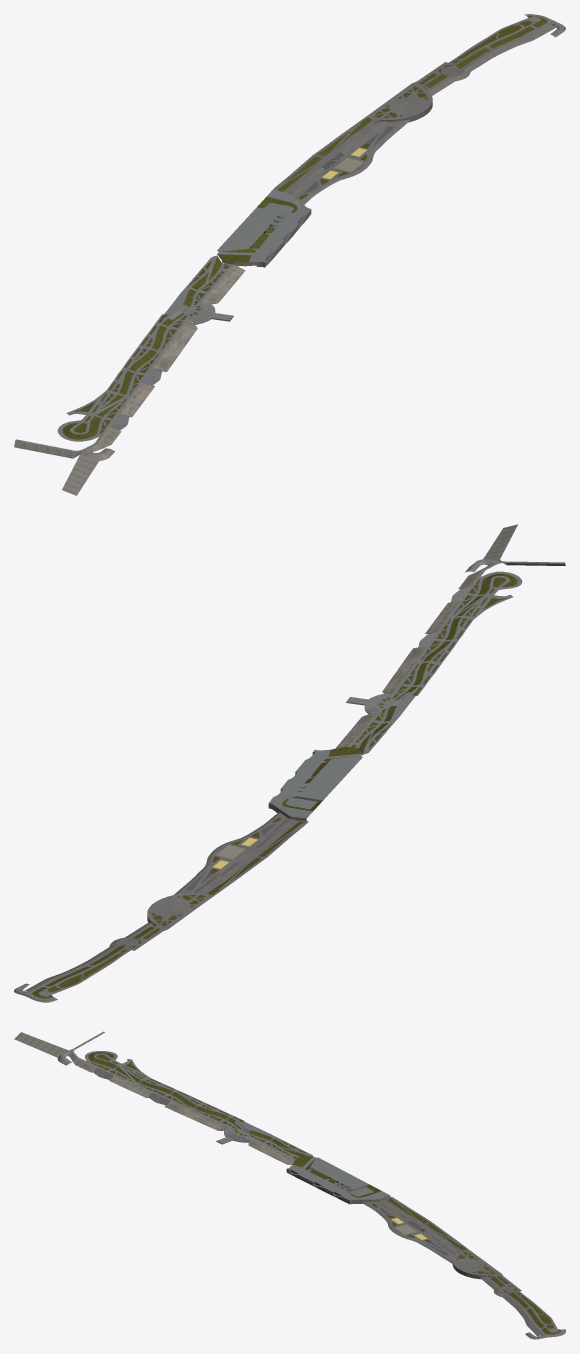
File: Naberejnaya_002.fbx
3 renders of one model, top to bottom at view 1: azimuth 30°, elevation 25°; view 2: azimuth 210°, elevation 25°; view 3: azimuth 270°, elevation 25°, orthographic. The views are drawn at different scales.
Parts seen in each view (by area): view 1: Naberejnaya_A, Naberejnaya_C, Naberejnaya_B; view 2: Naberejnaya_A, Naberejnaya_C, Naberejnaya_B; view 3: Naberejnaya_A, Naberejnaya_C, Naberejnaya_B.
Boxes of the visible parts, x1,y1,x2,y2 form: Naberejnaya_A: (14,255,245,495); Naberejnaya_C: (271,14,565,204); Naberejnaya_B: (217,189,311,267); Naberejnaya_A: (335,524,565,755); Naberejnaya_C: (14,812,308,1002); Naberejnaya_B: (268,746,362,820); Naberejnaya_A: (14,1031,312,1164); Naberejnaya_C: (362,1197,565,1339); Naberejnaya_B: (286,1156,390,1204).
Bounding box in the file's own units: 140112 × 1622 × 106944.
